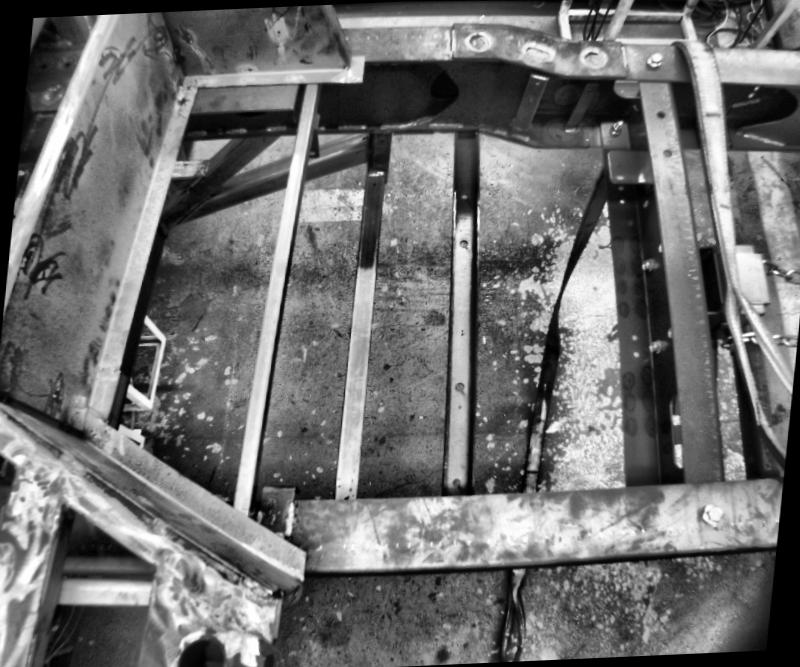bolt: (700, 503, 726, 526), (642, 50, 664, 72), (648, 338, 665, 356), (608, 120, 624, 138), (641, 257, 655, 272)
bracket: (254, 474, 308, 531), (511, 72, 548, 138), (556, 79, 596, 140), (601, 148, 656, 188), (305, 112, 329, 163)
hole: (174, 631, 233, 666), (451, 380, 466, 392), (450, 475, 462, 488), (662, 148, 672, 158), (655, 108, 666, 117), (628, 332, 640, 340), (458, 237, 468, 245), (460, 190, 468, 198), (632, 348, 638, 357), (371, 179, 378, 186), (616, 162, 622, 170), (310, 152, 317, 157), (360, 134, 366, 138)
